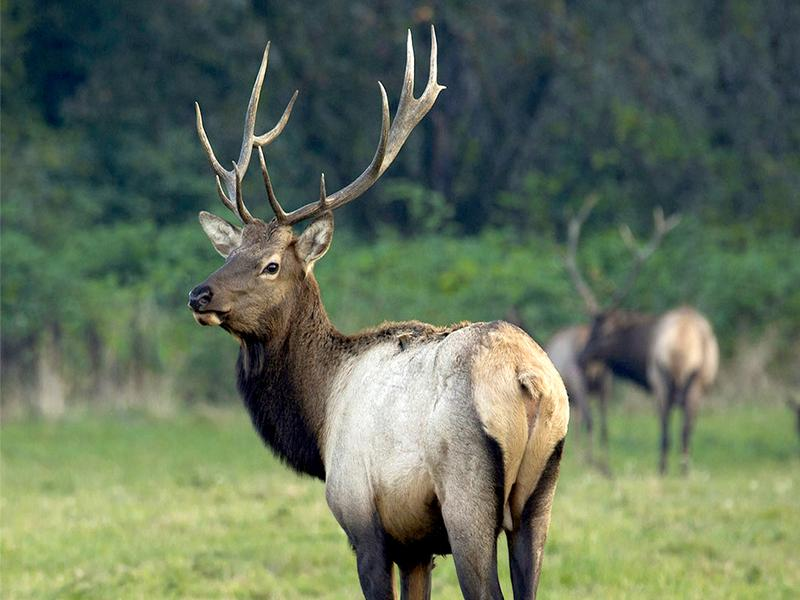elk: (186, 48, 573, 600)
